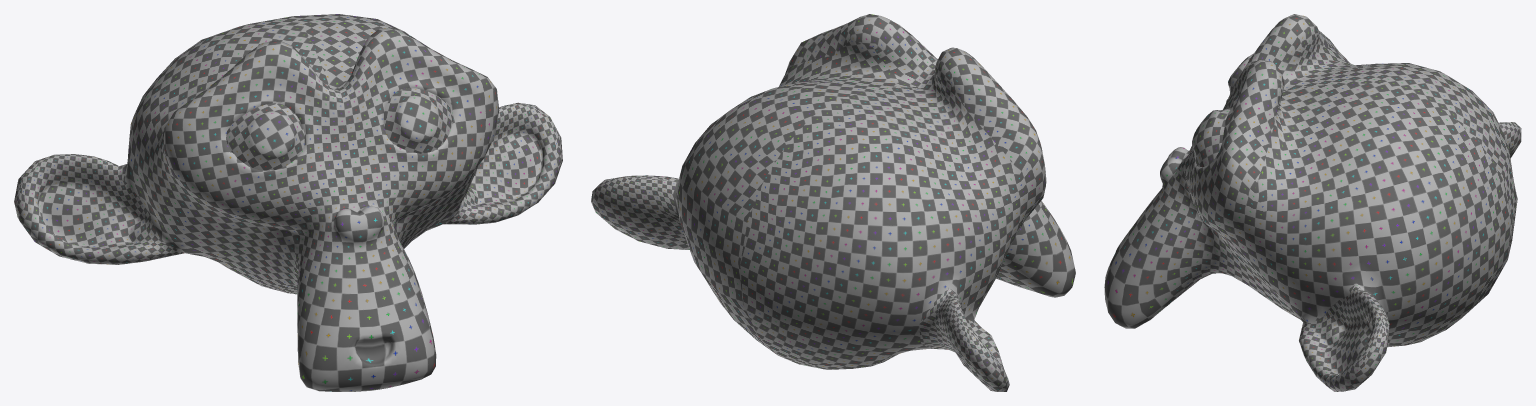
Rendered from testobject.obj.
3 views of the same model, side by side, from view 1: azimuth 30°, elevation 25°; view 2: azimuth 150°, elevation 25°; view 3: azimuth 270°, elevation 25° (orthographic). The views are drawn at different scales.
Visible parts, largest first — view 1: suzanne; view 2: suzanne; view 3: suzanne.
Boxes of the visible parts, x1,y1,x2,y2 form: suzanne: (14, 14, 562, 391); suzanne: (591, 14, 1075, 391); suzanne: (1104, 14, 1521, 391).
Bounding box in the file's own units: 3.79 × 2.22 × 2.94.
1 material, 1 textured.
